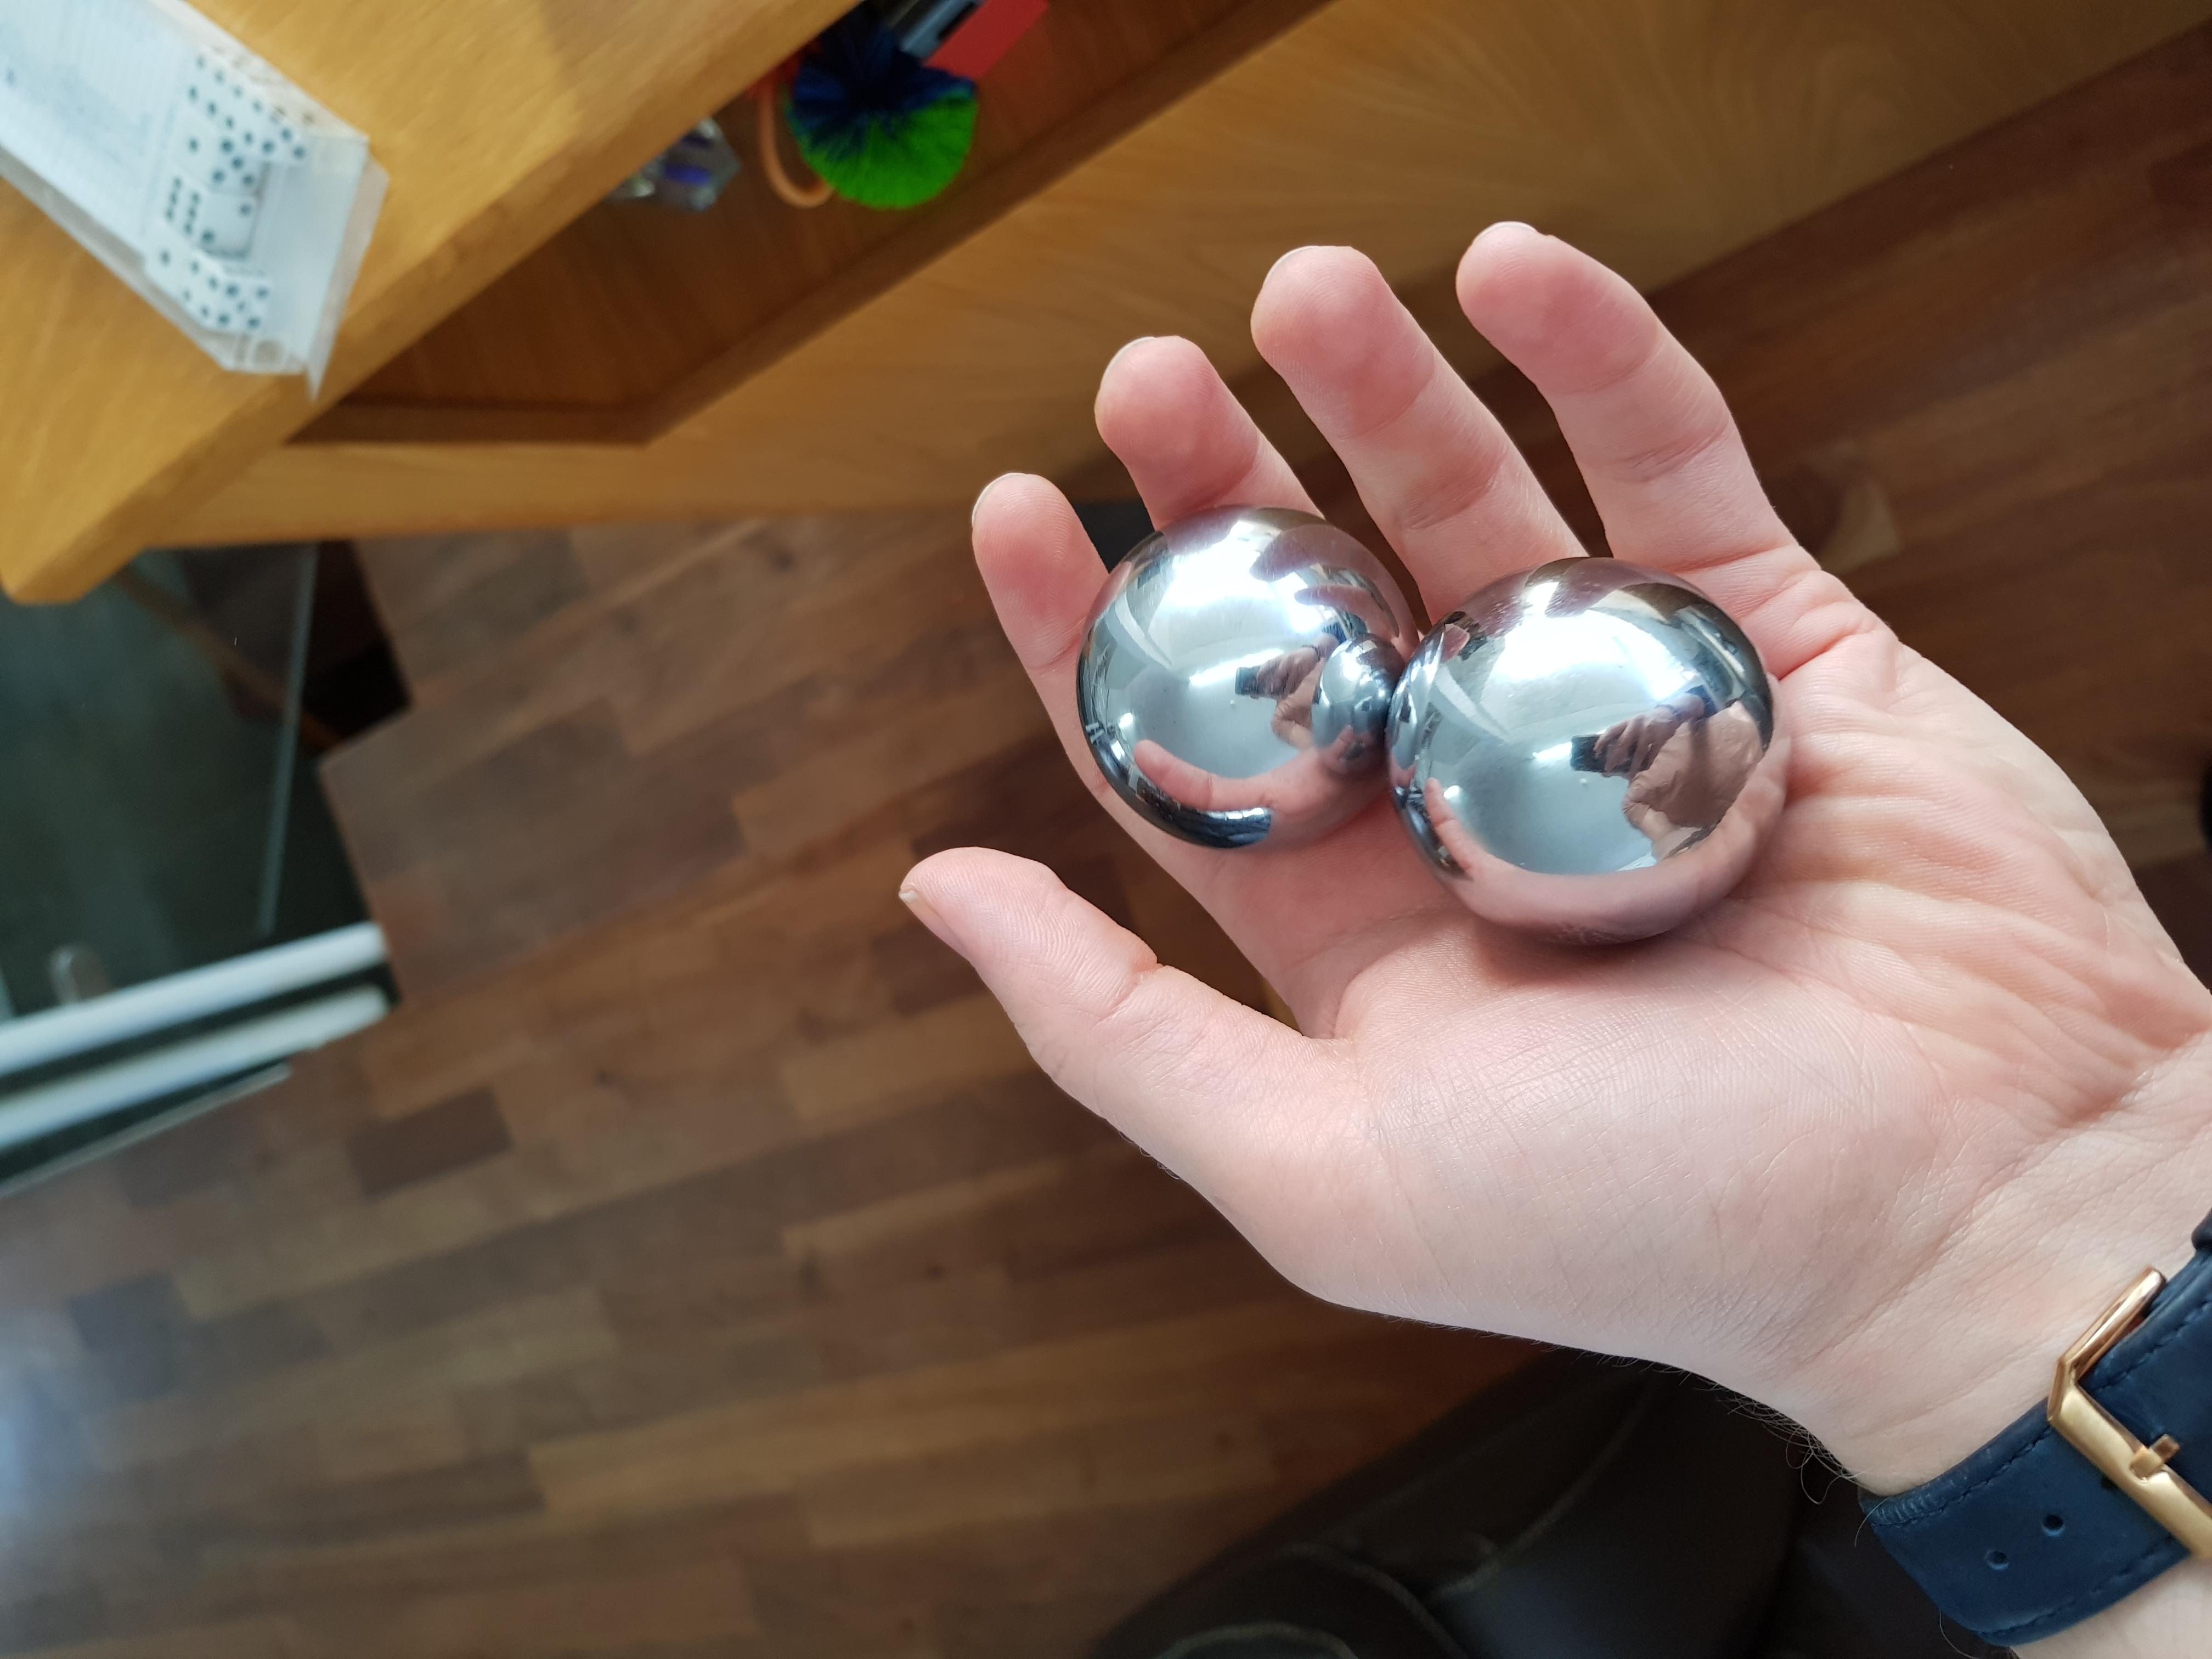Sphere: (1383, 549, 1796, 964), (1078, 500, 1414, 854)
